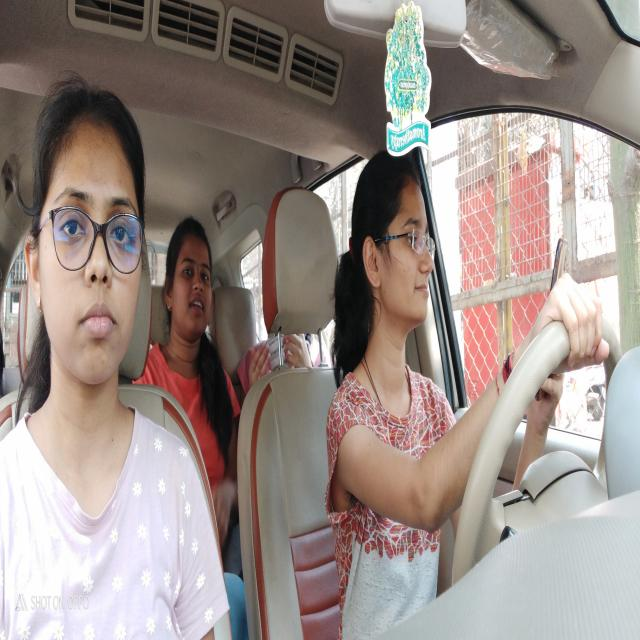mobile: (533, 234, 572, 408)
person: (25, 80, 146, 383), (354, 155, 438, 336), (163, 212, 217, 343)
